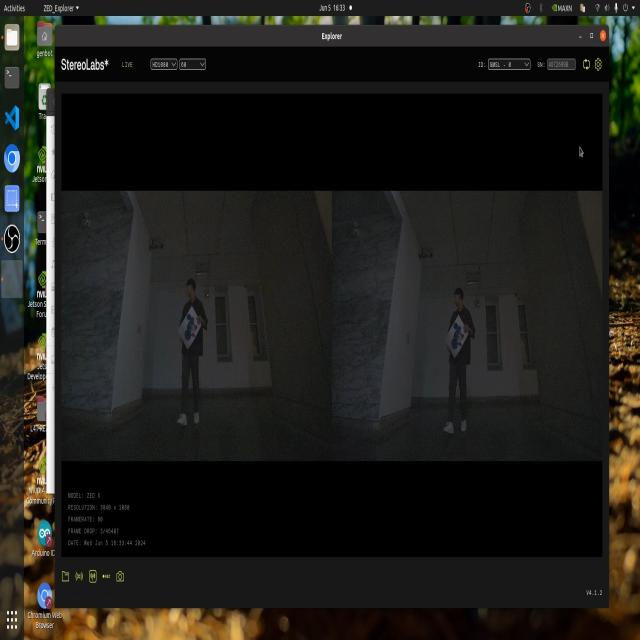blue: (180, 311, 198, 350), (453, 318, 464, 355)
